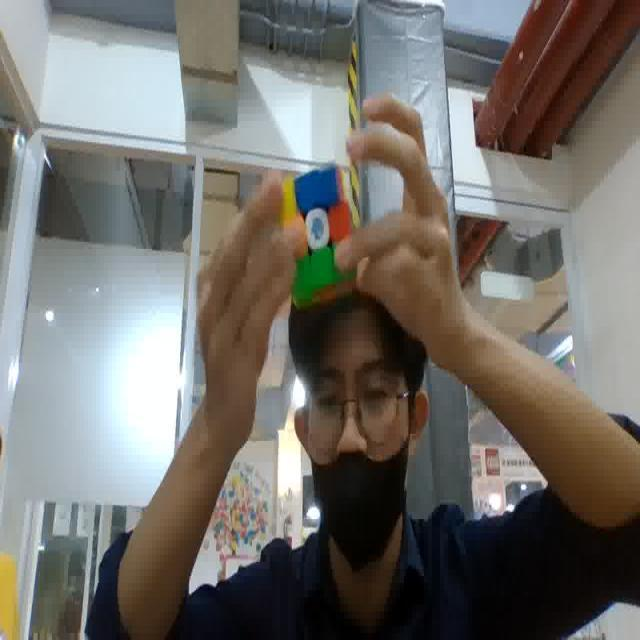Rub: (270, 161, 365, 311)
